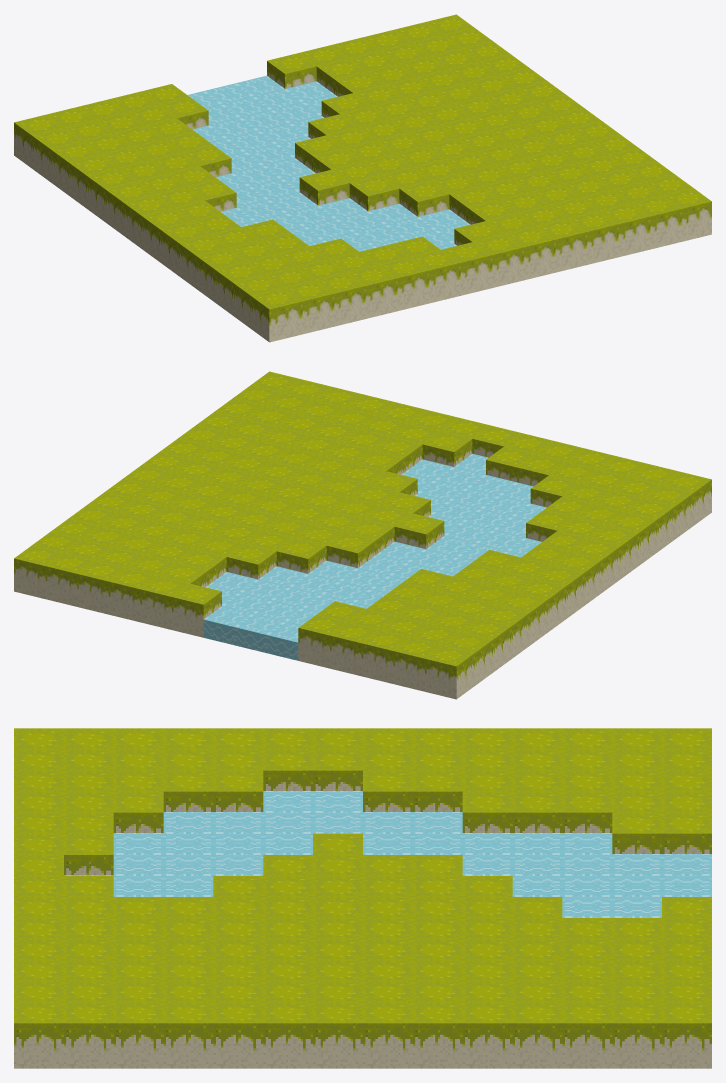
3 views of the same model, one above another, from view 1: azimuth 30°, elevation 25°; view 2: azimuth 150°, elevation 25°; view 3: azimuth 270°, elevation 25° (orthographic). The views are drawn at different scales.
Visible parts, largest first — view 1: Ground_Grass_D__2__1__42_; view 2: Ground_Grass_D__2__1__42_; view 3: Ground_Grass_D__2__1__42_.
Boxes of the visible parts, x1,y1,x2,y2 form: Ground_Grass_D__2__1__42_: [14, 14, 711, 342]; Ground_Grass_D__2__1__42_: [14, 371, 711, 699]; Ground_Grass_D__2__1__42_: [14, 728, 711, 1068].
Bounding box in the file's own units: 84000 × 6000 × 84000.
Materials: 2 (2 with a texture image).
